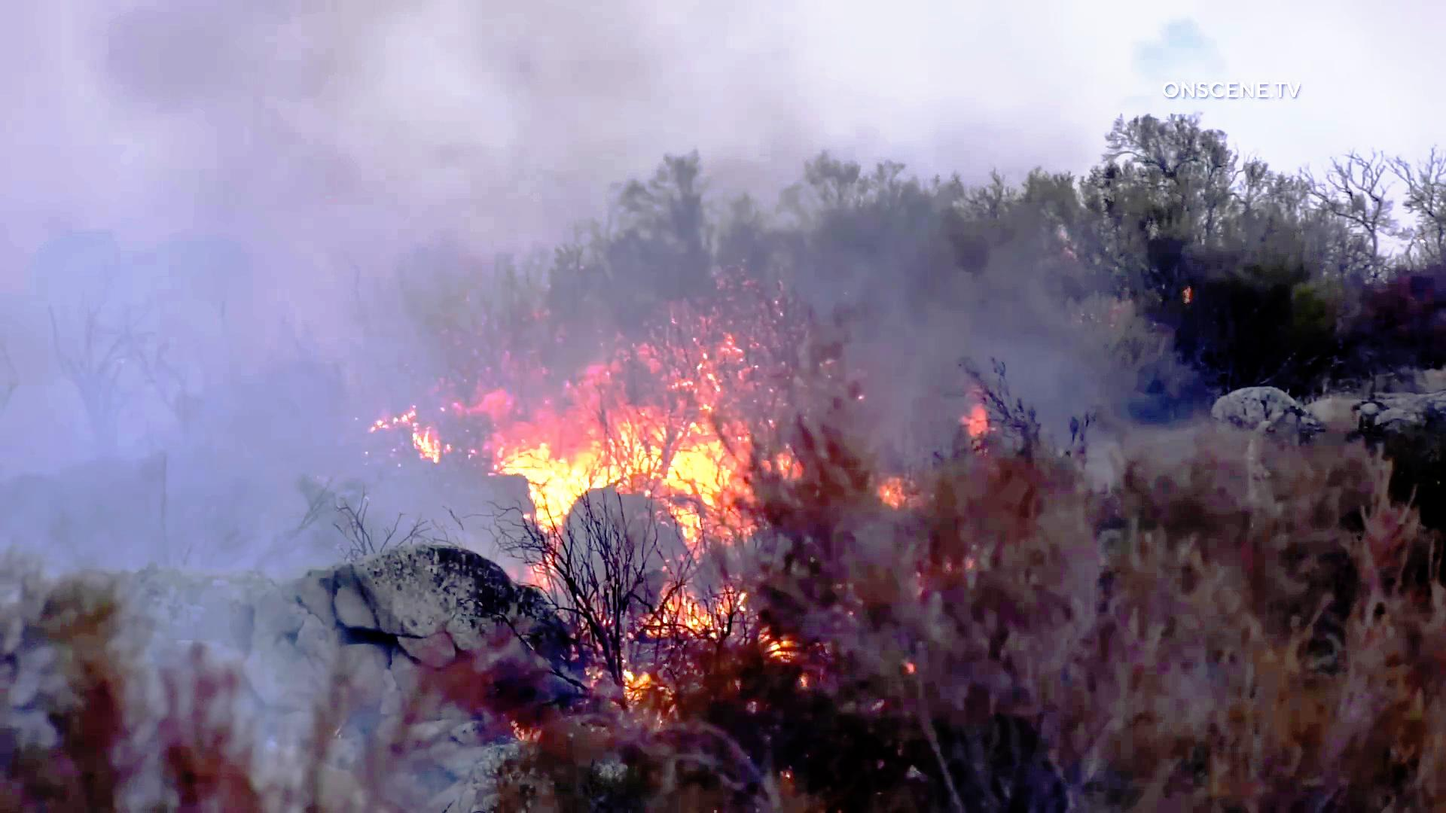fire: (490, 356, 784, 517)
